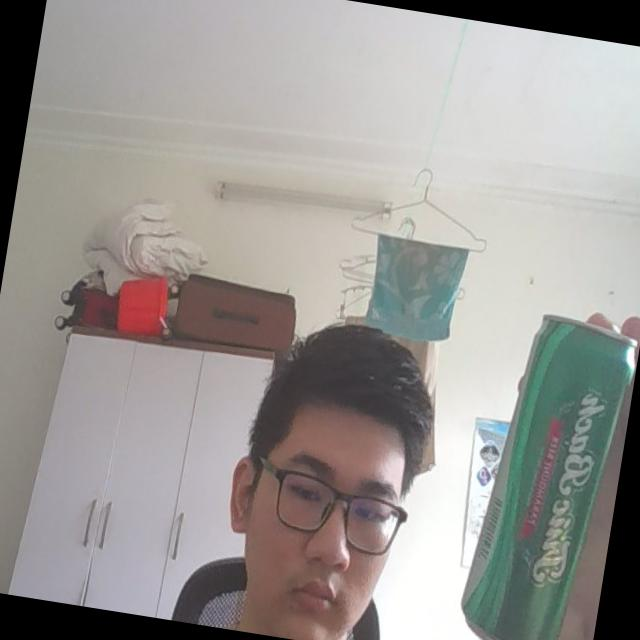Bia-Truc-Bach: (453, 302, 640, 640)
